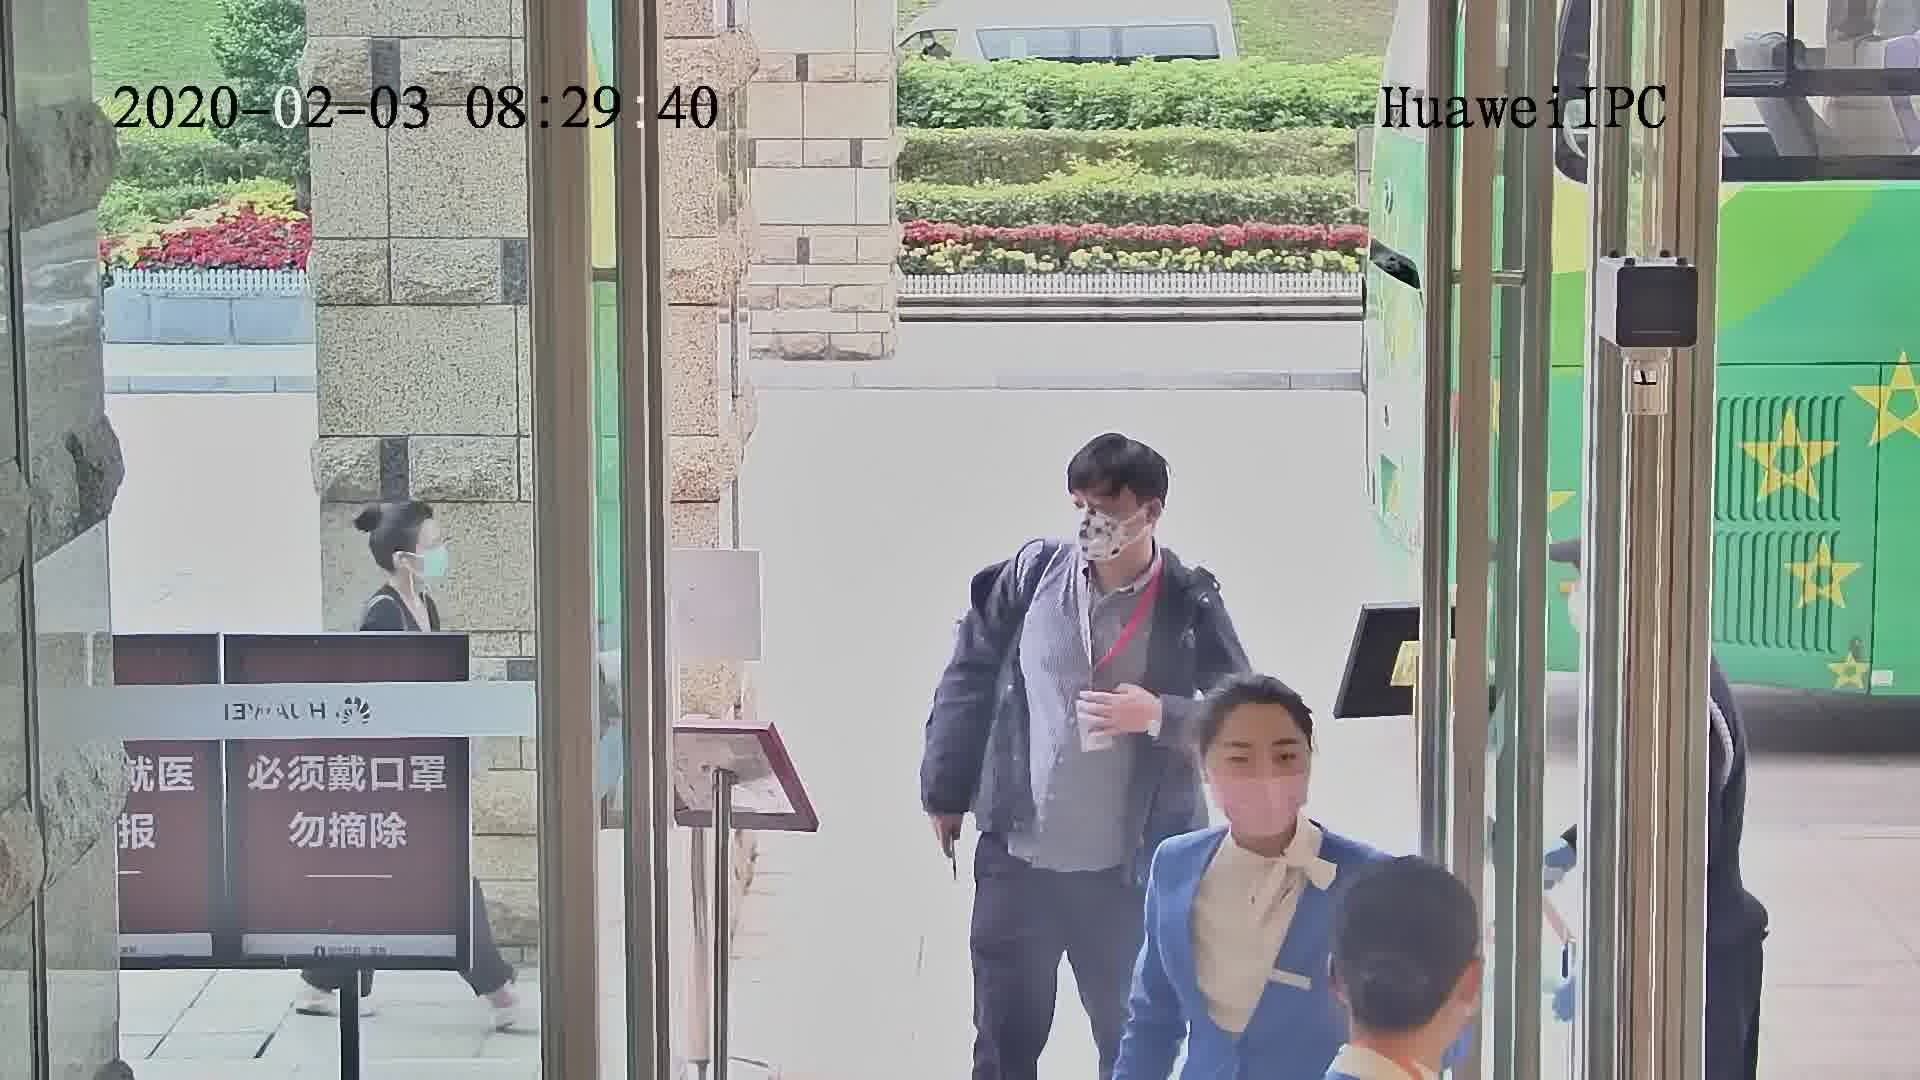face: (1196, 703, 1336, 841), (1065, 493, 1154, 566), (407, 518, 447, 582)
mask: (1207, 766, 1316, 842), (1069, 509, 1145, 560), (418, 544, 449, 584)
person: (1144, 673, 1379, 928), (999, 429, 1232, 635), (1285, 854, 1497, 1074), (350, 500, 446, 632)
